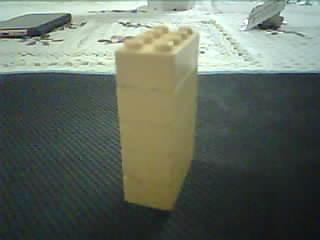lego: (112, 22, 200, 212)
